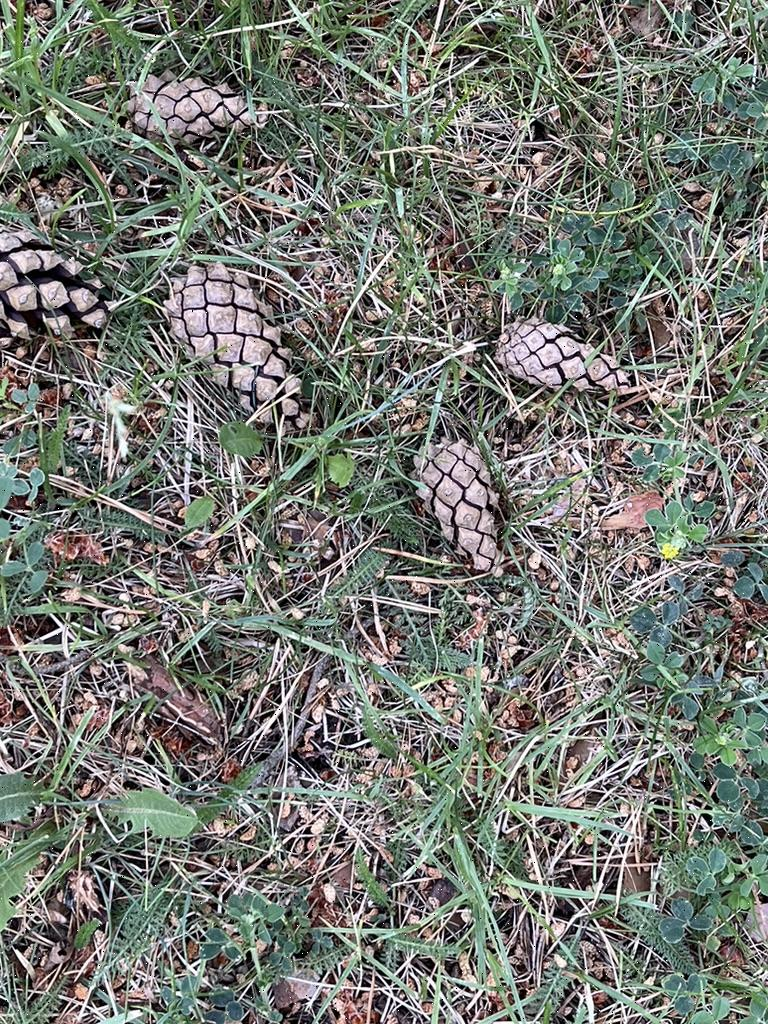pine: (161, 236, 321, 450), (394, 426, 531, 588), (0, 203, 123, 358), (488, 300, 658, 410), (124, 60, 264, 163)
